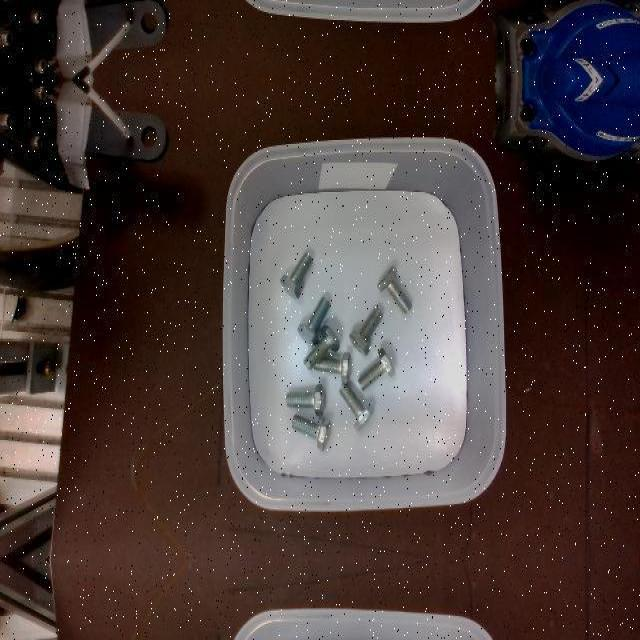screw: (339, 382, 374, 432), (303, 324, 340, 370), (296, 296, 330, 346), (349, 305, 383, 355), (377, 266, 412, 314), (357, 346, 395, 390), (280, 251, 313, 297), (291, 413, 331, 449), (286, 383, 327, 417)
